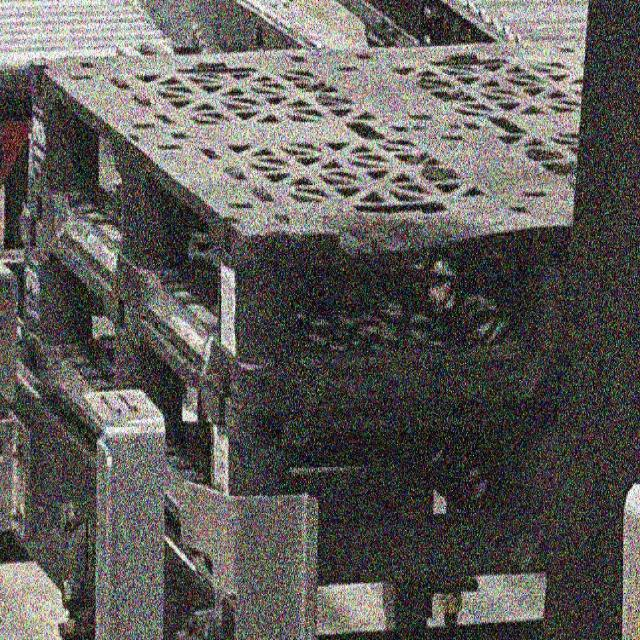igps: (14, 31, 640, 499)
